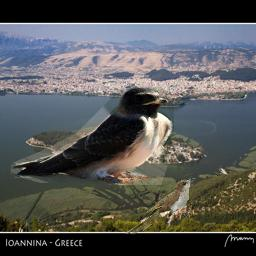Cuckoo: (125, 178, 196, 235)
Swallow: (9, 87, 174, 185)
